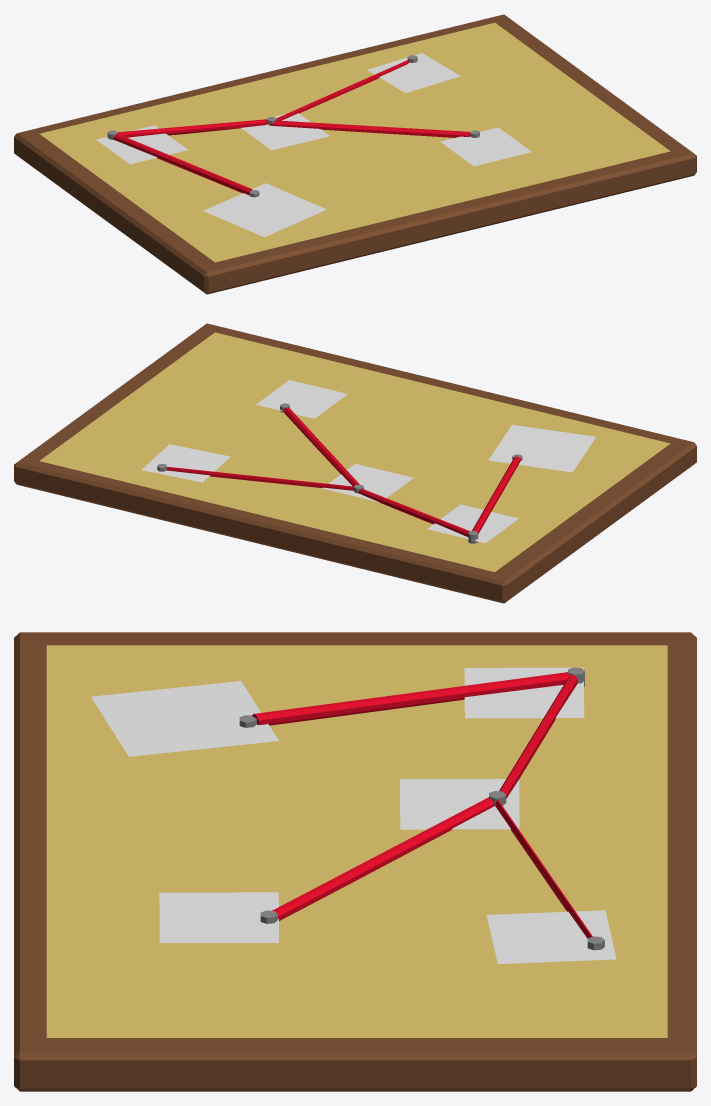
The model's file is board.fbx.
3 renders of one model, top to bottom at view 1: azimuth 30°, elevation 25°; view 2: azimuth 150°, elevation 25°; view 3: azimuth 270°, elevation 25°, orthographic. The views are drawn at different scales.
Visible parts, largest first — view 1: Plane, Cube, Plane.001, Plane.002, Plane.005, Plane.003, Plane.004, Cylinder.005, Cylinder.007, Cylinder.006, Cylinder.008; view 2: Plane, Cube, Plane.001, Plane.002, Plane.005, Plane.003, Plane.004, Cylinder.008, Cylinder.006, Cylinder.005, Cylinder.007; view 3: Plane, Cube, Plane.001, Plane.002, Plane.005, Plane.003, Plane.004, Cylinder.007, Cylinder.005, Cylinder.006, Cylinder.008.
Part boxes in pixels (x1=…): Plane: x1=39, y1=22, x2=670, y2=262; Cube: x1=14, y1=14, x2=696, y2=294; Plane.001: x1=203, y1=183, x2=326, y2=237; Plane.002: x1=440, y1=127, x2=531, y2=166; Plane.005: x1=367, y1=53, x2=460, y2=92; Plane.003: x1=241, y1=113, x2=329, y2=150; Plane.004: x1=96, y1=125, x2=187, y2=164; Cylinder.005: x1=270, y1=120, x2=470, y2=137; Cylinder.007: x1=113, y1=134, x2=252, y2=195; Cylinder.006: x1=117, y1=119, x2=267, y2=137; Cylinder.008: x1=276, y1=59, x2=409, y2=120; Plane: x1=39, y1=332, x2=670, y2=571; Cube: x1=14, y1=323, x2=696, y2=603; Plane.001: x1=488, y1=424, x2=595, y2=472; Plane.002: x1=256, y1=380, x2=347, y2=418; Plane.005: x1=141, y1=444, x2=230, y2=482; Plane.003: x1=322, y1=463, x2=413, y2=502; Plane.004: x1=427, y1=504, x2=518, y2=543; Cylinder.008: x1=166, y1=467, x2=353, y2=490; Cylinder.006: x1=358, y1=488, x2=469, y2=536; Cylinder.005: x1=283, y1=407, x2=359, y2=486; Cylinder.007: x1=472, y1=456, x2=520, y2=533; Plane: x1=46, y1=645, x2=667, y2=1037; Cube: x1=14, y1=632, x2=696, y2=1091; Plane.001: x1=91, y1=681, x2=278, y2=756; Plane.002: x1=159, y1=892, x2=279, y2=942; Plane.005: x1=486, y1=910, x2=616, y2=964; Plane.003: x1=400, y1=779, x2=519, y2=829; Plane.004: x1=464, y1=667, x2=584, y2=718; Cylinder.007: x1=252, y1=672, x2=570, y2=725; Cylinder.005: x1=272, y1=797, x2=494, y2=920; Cylinder.006: x1=499, y1=674, x2=577, y2=798; Cylinder.008: x1=495, y1=800, x2=592, y2=938.
Bounding box in the file's own units: 1297 × 78.76 × 881.
